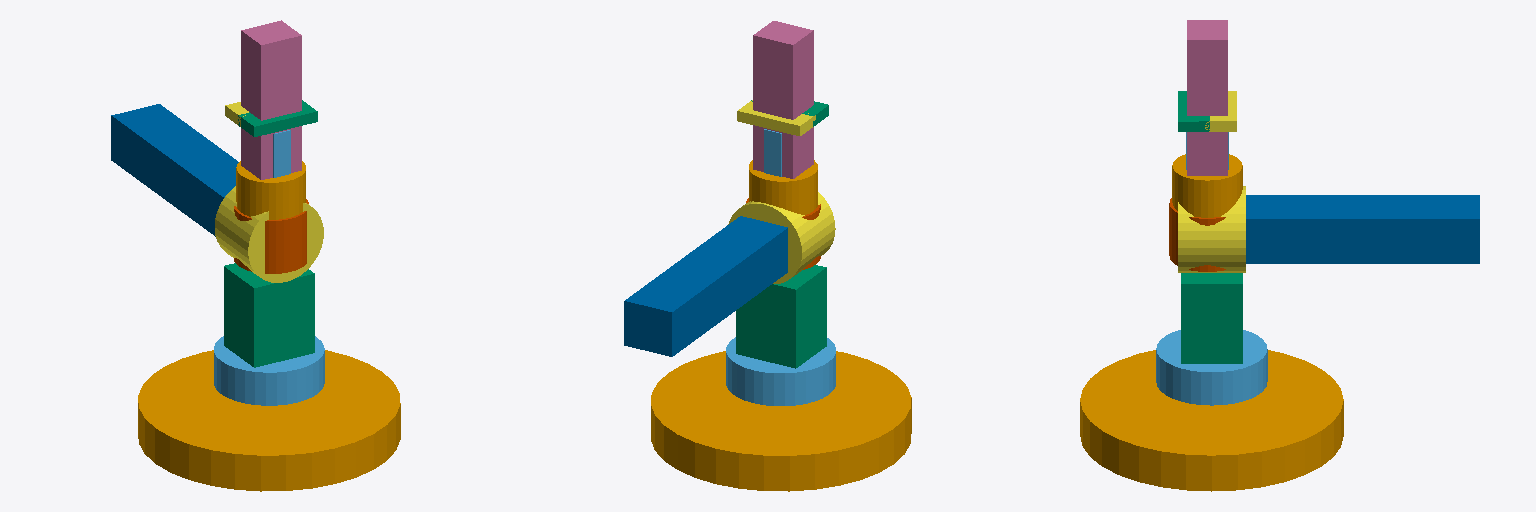
URDF robot description (4DOF_RobotArm):
<?xml version="1.0" encoding="utf-8"?>
<robot name="4DOF_RobotArm">

  <!-- ===== BASE LINK (ground) ===== -->
  <link name="base_link">
    <visual>
      <origin xyz="0 0 0" rpy="0 0 0"/>
      <geometry>
        <cylinder radius="0.09" length="0.027"/>
      </geometry>
    </visual>
    <collision>
      <origin xyz="0 0 0" rpy="0 0 0"/>
      <geometry>
        <cylinder radius="0.09" length="0.027"/>
      </geometry>
    </collision>
    <inertial>
      <origin xyz="0 0 0.0135" rpy="0 0 0"/>
      <mass value="5.0"/>
      <inertia ixx="0.03" ixy="0" ixz="0" iyy="0.03" iyz="0" izz="0.05"/>
    </inertial>
  </link>

  <!-- ===== J1 (base rotation, +Z) ===== -->
  <joint name="joint_j1" type="revolute">
    <parent link="base_link"/>
    <child link="link_j1"/>
    <origin xyz="0 0 0.0395" rpy="0 0 0"/>
    <axis xyz="0 0 1"/>
    <limit effort="100" lower="-3.1416" upper="3.1416" velocity="3.14"/>
  </joint>
  <link name="link_j1">
    <visual>
      <origin xyz="0 0 0" rpy="0 0 0"/>
      <geometry>
        <cylinder radius="0.038" length="0.025"/>
      </geometry>
    </visual>
    <collision>
      <origin xyz="0 0 0" rpy="0 0 0"/>
      <geometry>
        <cylinder radius="0.038" length="0.025"/>
      </geometry>
    </collision>
    <inertial>
      <origin xyz="0 0 0" rpy="0 0 0"/>
      <mass value="1.0"/>
      <inertia ixx="0.002" ixy="0" ixz="0" iyy="0.002" iyz="0" izz="0.003"/>
    </inertial>
  </link>

  <!-- ===== Shoulder Link (fastened to J1 output) ===== -->
  <joint name="joint_shoulder" type="fixed">
    <parent link="link_j1"/>
    <child link="link_shoulder"/>
    <origin xyz="0 0 0.0425" rpy="0 0 0"/>
  </joint>
  <link name="link_shoulder">
    <visual>
      <origin xyz="0 0 0" rpy="0 0 0"/>
      <geometry>
        <box size="0.048 0.042 0.06"/>
      </geometry>
    </visual>
    <collision>
      <origin xyz="0 0 0" rpy="0 0 0"/>
      <geometry>
        <box size="0.048 0.042 0.06"/>
      </geometry>
    </collision>
    <inertial>
      <origin xyz="0 0 0" rpy="0 0 0"/>
      <mass value="0.8"/>
      <inertia ixx="0.003" ixy="0" ixz="0" iyy="0.003" iyz="0" izz="0.001"/>
    </inertial>
  </link>

  <!-- ===== J2 (shoulder pitch, +Y) ===== -->
  <joint name="joint_j2" type="revolute">
    <parent link="link_shoulder"/>
    <child link="link_j2"/>
    <origin xyz="0 0 0.06" rpy="0 0 0"/>
    <axis xyz="0 1 0"/>
    <limit effort="80" lower="-2.3562" upper="1.0472" velocity="2.0"/>
  </joint>
  <link name="link_j2">
    <visual>
      <origin xyz="0 0 0" rpy="1.5708 0 0"/>
      <geometry>
        <cylinder radius="0.03" length="0.046"/>
      </geometry>
    </visual>
    <collision>
      <origin xyz="0 0 0" rpy="1.5708 0 0"/>
      <geometry>
        <cylinder radius="0.03" length="0.046"/>
      </geometry>
    </collision>
    <inertial>
      <origin xyz="0 0 0" rpy="0 0 0"/>
      <mass value="0.8"/>
      <inertia ixx="0.0015" ixy="0" ixz="0" iyy="0.0015" iyz="0" izz="0.002"/>
    </inertial>
  </link>

  <!-- ===== Upper Arm Link (fastened to J2 output) ===== -->
  <joint name="joint_upper_arm" type="fixed">
    <parent link="link_j2"/>
    <child link="link_upper_arm"/>
    <origin xyz="0 0.103 0" rpy="1.5708 0 0"/>
  </joint>
  <link name="link_upper_arm">
    <visual>
      <origin xyz="0 0 0" rpy="0 0 0"/>
      <geometry>
        <box size="0.038 0.034 0.16"/>
      </geometry>
    </visual>
    <collision>
      <origin xyz="0 0 0" rpy="0 0 0"/>
      <geometry>
        <box size="0.038 0.034 0.16"/>
      </geometry>
    </collision>
    <inertial>
      <origin xyz="0 0 0" rpy="0 0 0"/>
      <mass value="1.2"/>
      <inertia ixx="0.003" ixy="0" ixz="0" iyy="0.003" iyz="0" izz="0.001"/>
    </inertial>
  </link>

  <!-- ===== J3 (elbow pitch, +Y) ===== -->
  <joint name="joint_j3" type="revolute">
    <parent link="link_upper_arm"/>
    <child link="link_j3"/>
    <origin xyz="0 0 0.106" rpy="0 0 0"/>
    <axis xyz="0 1 0"/>
    <limit effort="60" lower="-2.618" upper="2.618" velocity="2.5"/>
  </joint>
  <link name="link_j3">
    <visual>
      <origin xyz="0 0 0" rpy="1.5708 0 0"/>
      <geometry>
        <cylinder radius="0.026" length="0.04"/>
      </geometry>
    </visual>
    <collision>
      <origin xyz="0 0 0" rpy="1.5708 0 0"/>
      <geometry>
        <cylinder radius="0.026" length="0.04"/>
      </geometry>
    </collision>
    <inertial>
      <origin xyz="0 0 0" rpy="0 0 0"/>
      <mass value="0.6"/>
      <inertia ixx="0.001" ixy="0" ixz="0" iyy="0.001" iyz="0" izz="0.0015"/>
    </inertial>
  </link>

  <!-- ===== Forearm Link (fastened to J3 output) ===== -->
  <joint name="joint_forearm" type="fixed">
    <parent link="link_j3"/>
    <child link="link_forearm"/>
    <origin xyz="0 0.085 0" rpy="1.5708 0 0"/>
  </joint>
  <link name="link_forearm">
    <visual>
      <origin xyz="0 0 0" rpy="0 0 0"/>
      <geometry>
        <box size="0.032 0.028 0.13"/>
      </geometry>
    </visual>
    <collision>
      <origin xyz="0 0 0" rpy="0 0 0"/>
      <geometry>
        <box size="0.032 0.028 0.13"/>
      </geometry>
    </collision>
    <inertial>
      <origin xyz="0 0 0" rpy="0 0 0"/>
      <mass value="0.8"/>
      <inertia ixx="0.0015" ixy="0" ixz="0" iyy="0.0015" iyz="0" izz="0.0008"/>
    </inertial>
  </link>

  <!-- ===== J4 (wrist roll, +X) ===== -->
  <joint name="joint_j4" type="revolute">
    <parent link="link_forearm"/>
    <child link="link_j4"/>
    <origin xyz="0 0 0.0825" rpy="0 1.5708 0"/>
    <axis xyz="1 0 0"/>
    <limit effort="40" lower="-3.1416" upper="3.1416" velocity="3.14"/>
  </joint>
  <link name="link_j4">
    <visual>
      <origin xyz="0 0 0" rpy="0 1.5708 0"/>
      <geometry>
        <cylinder radius="0.022" length="0.035"/>
      </geometry>
    </visual>
    <collision>
      <origin xyz="0 0 0" rpy="0 1.5708 0"/>
      <geometry>
        <cylinder radius="0.022" length="0.035"/>
      </geometry>
    </collision>
    <inertial>
      <origin xyz="0 0 0" rpy="0 0 0"/>
      <mass value="0.4"/>
      <inertia ixx="0.0003" ixy="0" ixz="0" iyy="0.0003" iyz="0" izz="0.0005"/>
    </inertial>
  </link>

  <!-- ===== Wrist Housing (fastened to J4 output) ===== -->
  <joint name="joint_wrist" type="fixed">
    <parent link="link_j4"/>
    <child link="link_wrist"/>
    <origin xyz="0.0315 0 0" rpy="0 0 0"/>
  </joint>
  <link name="link_wrist">
    <visual>
      <origin xyz="0 0 0" rpy="0 1.5708 0"/>
      <geometry>
        <cylinder radius="0.024" length="0.028"/>
      </geometry>
    </visual>
    <collision>
      <origin xyz="0 0 0" rpy="0 1.5708 0"/>
      <geometry>
        <cylinder radius="0.024" length="0.028"/>
      </geometry>
    </collision>
    <inertial>
      <origin xyz="0 0 0" rpy="0 0 0"/>
      <mass value="0.3"/>
      <inertia ixx="0.0002" ixy="0" ixz="0" iyy="0.0002" iyz="0" izz="0.0003"/>
    </inertial>
  </link>

  <!-- ===== Gripper Base (fastened to wrist) ===== -->
  <joint name="joint_gripper_base" type="fixed">
    <parent link="link_wrist"/>
    <child link="link_gripper_base"/>
    <origin xyz="0.029 0 0" rpy="0 0 0"/>
  </joint>
  <link name="link_gripper_base">
    <visual>
      <origin xyz="0 0 0" rpy="0 0 0"/>
      <geometry>
        <box size="0.036 0.03 0.014"/>
      </geometry>
    </visual>
    <collision>
      <origin xyz="0 0 0" rpy="0 0 0"/>
      <geometry>
        <box size="0.036 0.03 0.014"/>
      </geometry>
    </collision>
    <inertial>
      <origin xyz="0 0 0" rpy="0 0 0"/>
      <mass value="0.2"/>
      <inertia ixx="0.0001" ixy="0" ixz="0" iyy="0.0001" iyz="0" izz="0.00015"/>
    </inertial>
  </link>

  <!-- ===== Left Finger (fastened to gripper base) ===== -->
  <joint name="joint_left_finger" type="fixed">
    <parent link="link_gripper_base"/>
    <child link="link_left_finger"/>
    <origin xyz="0.026 0.009 0" rpy="0 0 0"/>
  </joint>
  <link name="link_left_finger">
    <visual>
      <origin xyz="0 0 0" rpy="0 0 0"/>
      <geometry>
        <box size="0.008 0.022 0.05"/>
      </geometry>
    </visual>
    <collision>
      <origin xyz="0 0 0" rpy="0 0 0"/>
      <geometry>
        <box size="0.008 0.022 0.05"/>
      </geometry>
    </collision>
    <inertial>
      <origin xyz="0 0 0" rpy="0 0 0"/>
      <mass value="0.05"/>
      <inertia ixx="1e-05" ixy="0" ixz="0" iyy="5e-06" iyz="0" izz="1e-05"/>
    </inertial>
  </link>

  <!-- ===== Right Finger (fastened to gripper base) ===== -->
  <joint name="joint_right_finger" type="fixed">
    <parent link="link_gripper_base"/>
    <child link="link_right_finger"/>
    <origin xyz="0.026 -0.009 0" rpy="0 0 0"/>
  </joint>
  <link name="link_right_finger">
    <visual>
      <origin xyz="0 0 0" rpy="0 0 0"/>
      <geometry>
        <box size="0.008 0.022 0.05"/>
      </geometry>
    </visual>
    <collision>
      <origin xyz="0 0 0" rpy="0 0 0"/>
      <geometry>
        <box size="0.008 0.022 0.05"/>
      </geometry>
    </collision>
    <inertial>
      <origin xyz="0 0 0" rpy="0 0 0"/>
      <mass value="0.05"/>
      <inertia ixx="1e-05" ixy="0" ixz="0" iyy="5e-06" iyz="0" izz="1e-05"/>
    </inertial>
  </link>

</robot>

--- What the picture shows (computed from the rendered views, not written in the file) ---
3 views of the same robot in one strip: view 1: azimuth 30°, elevation 25°; view 2: azimuth 150°, elevation 25°; view 3: azimuth 270°, elevation 25° (orthographic).
Robot: 4DOF_RobotArm — 12 links, 11 joints (4 revolute, 7 fixed); root link base_link; default pose: all joints at 0.
Links seen in each view (by area): view 1: base_link, link_upper_arm, link_shoulder, link_forearm, link_j1, link_j2, link_wrist, link_j3, link_left_finger, link_gripper_base; view 2: base_link, link_upper_arm, link_forearm, link_shoulder, link_j1, link_j2, link_wrist, link_right_finger, link_gripper_base; view 3: base_link, link_upper_arm, link_forearm, link_shoulder, link_j1, link_j2, link_wrist, link_j3, link_left_finger, link_right_finger.
Link boxes in pixels (x1,y1,x2,y2): base_link: (138,350,400,491); link_upper_arm: (111,104,238,236); link_shoulder: (224,263,314,367); link_forearm: (241,20,301,179); link_j1: (214,336,324,405); link_j2: (215,186,323,282); link_wrist: (236,161,305,219); link_j3: (234,199,308,273); link_left_finger: (238,100,317,136); link_gripper_base: (273,130,290,177); base_link: (651,351,911,491); link_upper_arm: (624,216,787,356); link_forearm: (753,21,813,178); link_shoulder: (736,265,826,368); link_j1: (726,337,835,405); link_j2: (728,192,835,283); link_wrist: (749,160,817,214); link_right_finger: (737,100,815,135); link_gripper_base: (764,129,781,176); base_link: (1080,350,1343,491); link_upper_arm: (1246,195,1479,263); link_forearm: (1187,20,1227,175); link_shoulder: (1181,273,1242,363); link_j1: (1156,330,1267,405); link_j2: (1178,186,1245,272); link_wrist: (1172,154,1242,217); link_j3: (1169,198,1225,271); link_left_finger: (1178,91,1209,131); link_right_finger: (1205,91,1236,131).
Size in the robot's own frame: 0.18 by 0.273 by 0.3055 metres.
Geometry: primitives only (box / cylinder / sphere), no mesh files.
